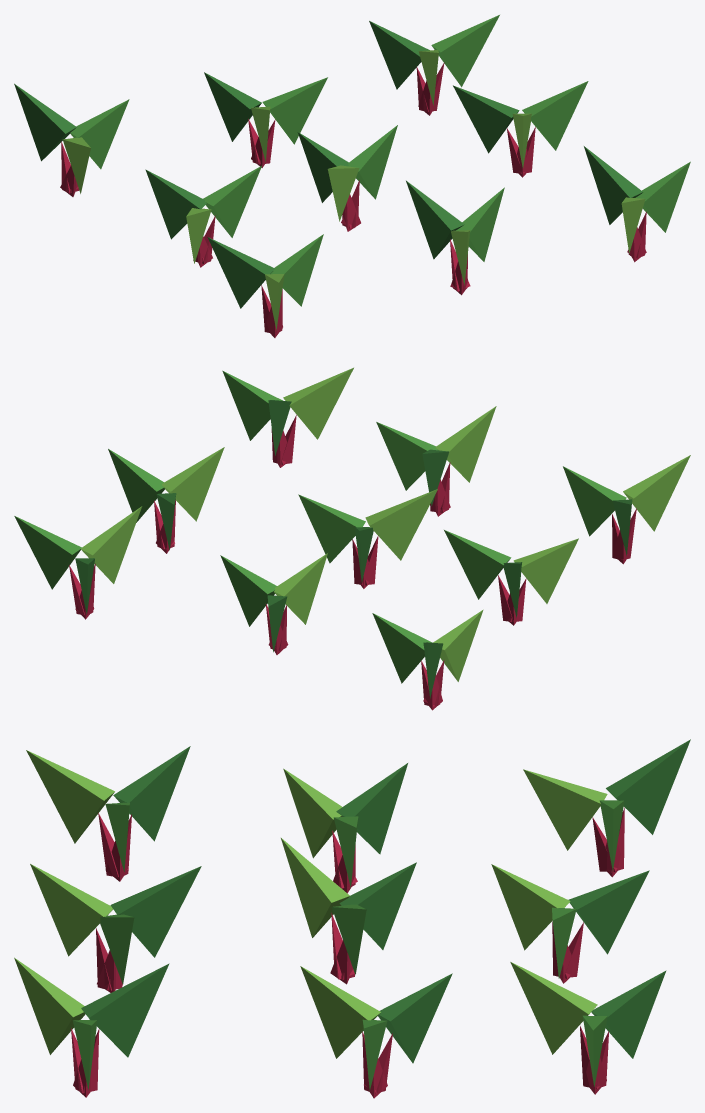
Rendered from beet-2.glb.
3 renders of one model, top to bottom at view 1: azimuth 30°, elevation 25°; view 2: azimuth 150°, elevation 25°; view 3: azimuth 270°, elevation 25°, orthographic. The views are drawn at different scales.
Parts seen in each view (by area): view 1: beet-2; view 2: beet-2; view 3: beet-2.
Boxes of the visible parts, x1,y1,x2,y2 form: beet-2: (14,15,690,337); beet-2: (14,367,690,710); beet-2: (14,739,690,1098).
Bounding box in the file's own units: 0.6841 × 0.1353 × 0.7015.
1 material, 1 textured.
